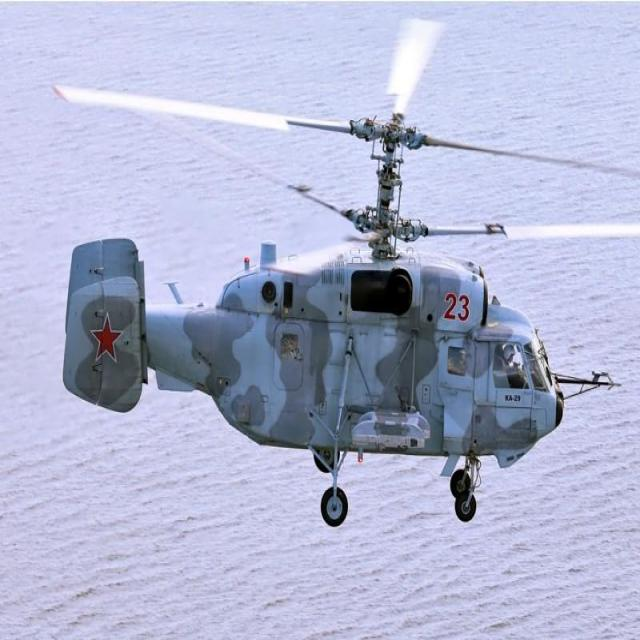MIL_HELO: (46, 22, 640, 540)
